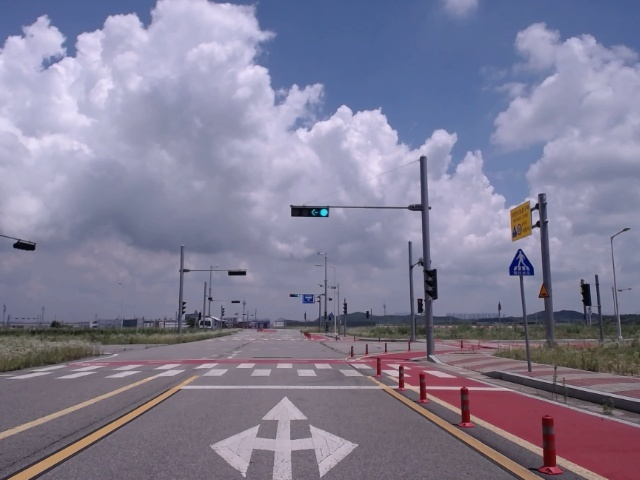all_green_4: (291, 205, 333, 216)
